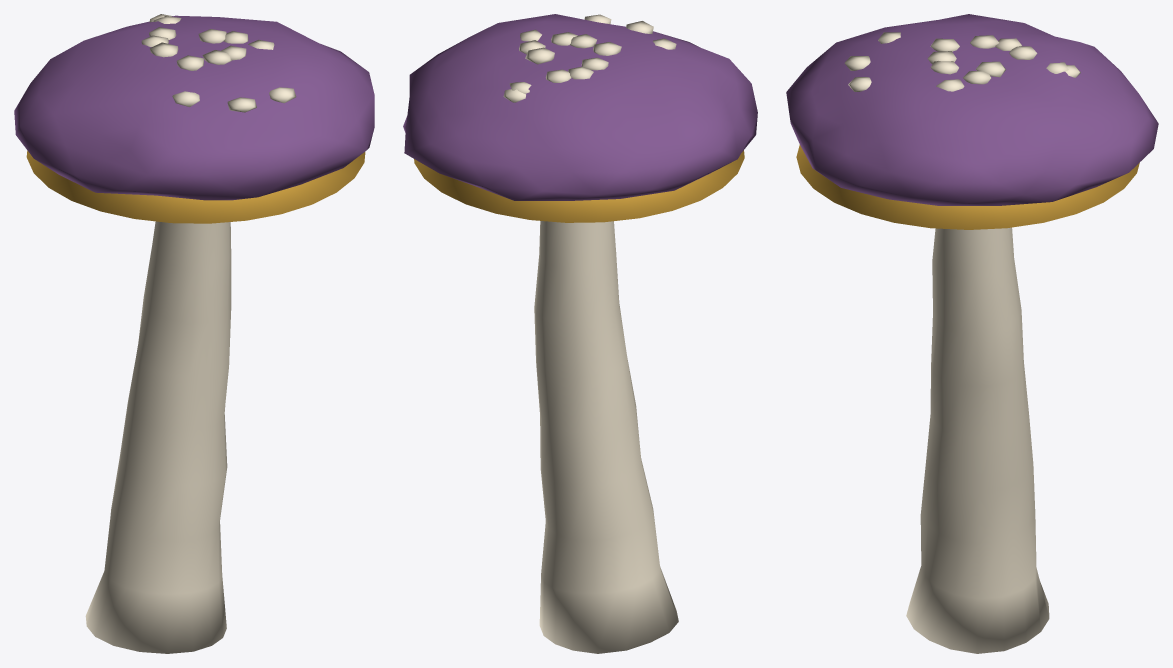
Rendered from fk_giant_mushroom_tall.fbx.
3 views of the same model, side by side, from view 1: azimuth 30°, elevation 25°; view 2: azimuth 150°, elevation 25°; view 3: azimuth 270°, elevation 25° (orthographic). The views are drawn at different scales.
Parts seen in each view (by area): view 1: fk_giant_mushroom_tall; view 2: fk_giant_mushroom_tall; view 3: fk_giant_mushroom_tall.
Boxes of the visible parts, x1,y1,x2,y2 form: fk_giant_mushroom_tall: [14, 14, 374, 653]; fk_giant_mushroom_tall: [403, 14, 757, 653]; fk_giant_mushroom_tall: [786, 14, 1158, 653].
Bounding box in the file's own units: 857 × 1475 × 844.
